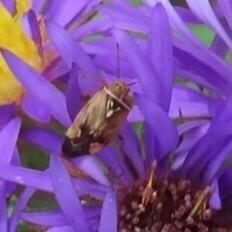plant_bugs: (36, 35, 169, 186)
